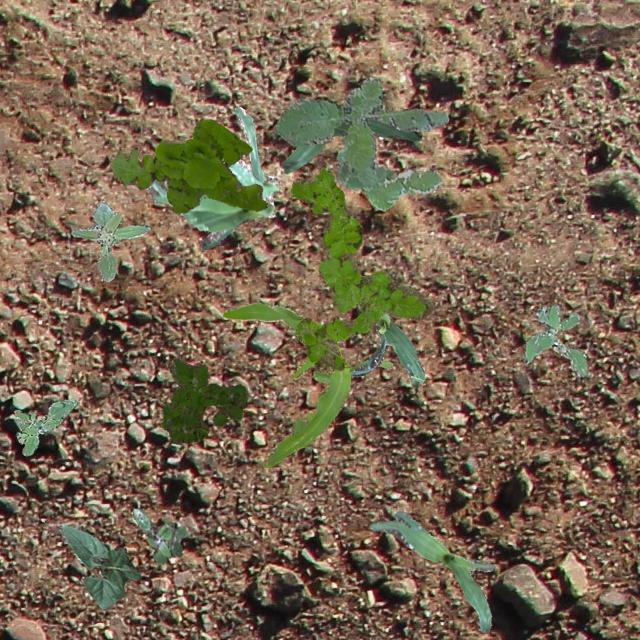crop: (222, 302, 392, 466), (146, 105, 280, 248), (368, 510, 496, 632), (280, 119, 420, 172), (59, 522, 140, 608), (348, 312, 424, 386)
weed: (290, 166, 432, 370), (274, 76, 448, 210), (110, 119, 266, 212), (160, 356, 244, 442), (70, 200, 148, 280), (522, 304, 586, 376), (14, 398, 76, 454), (132, 508, 186, 562)
